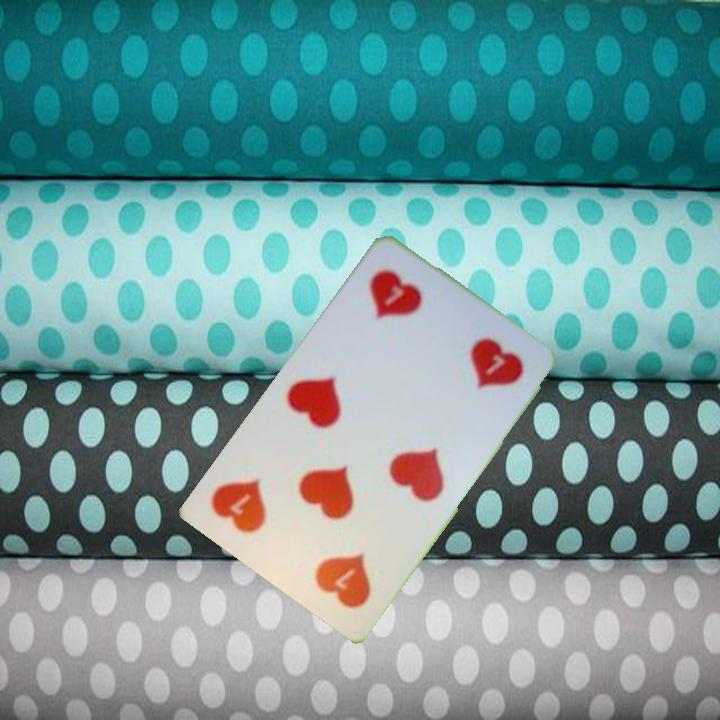h_7.png: (338, 251, 467, 377), (276, 497, 405, 623)
